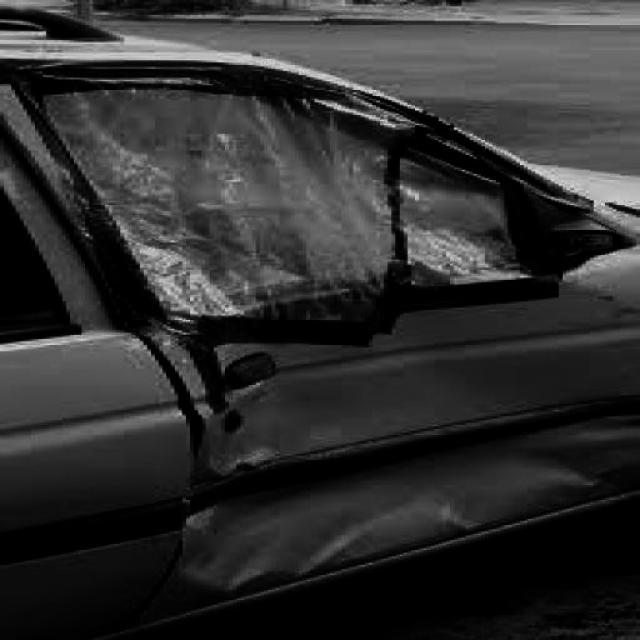car damage: (9, 65, 639, 636)
